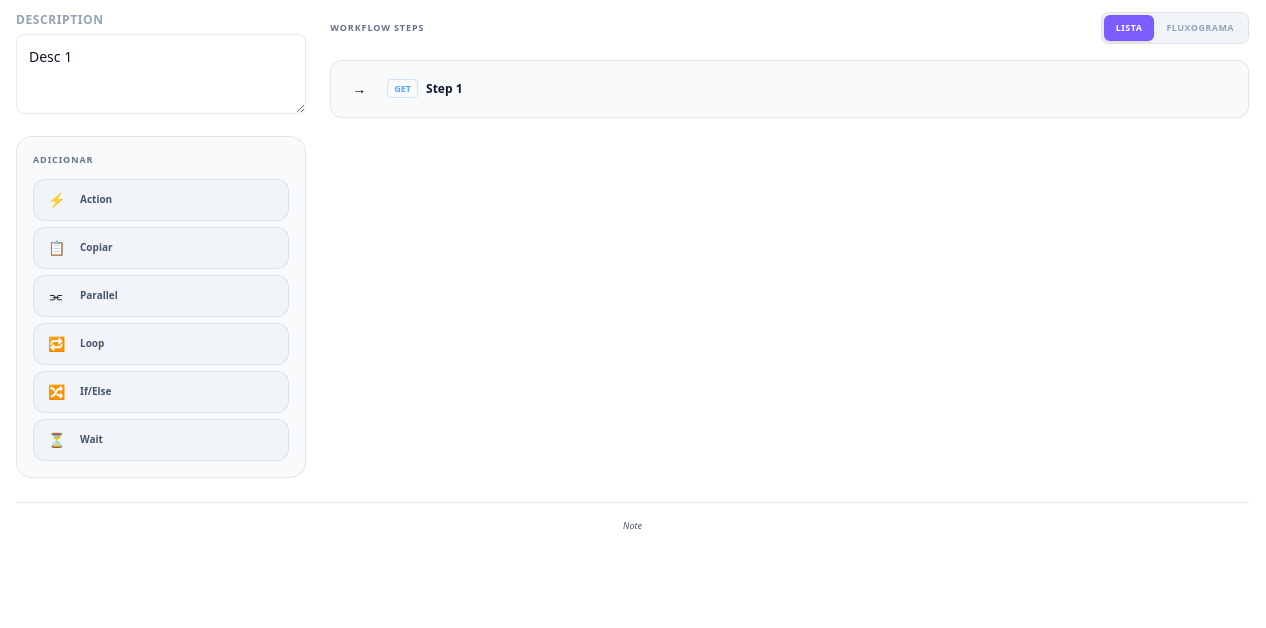
Test: WorkflowEditorView › should toggle between list and flowchart view
Click the button "Fluxograma" at x=1200, y=28, box [1154, 15, 1246, 40]
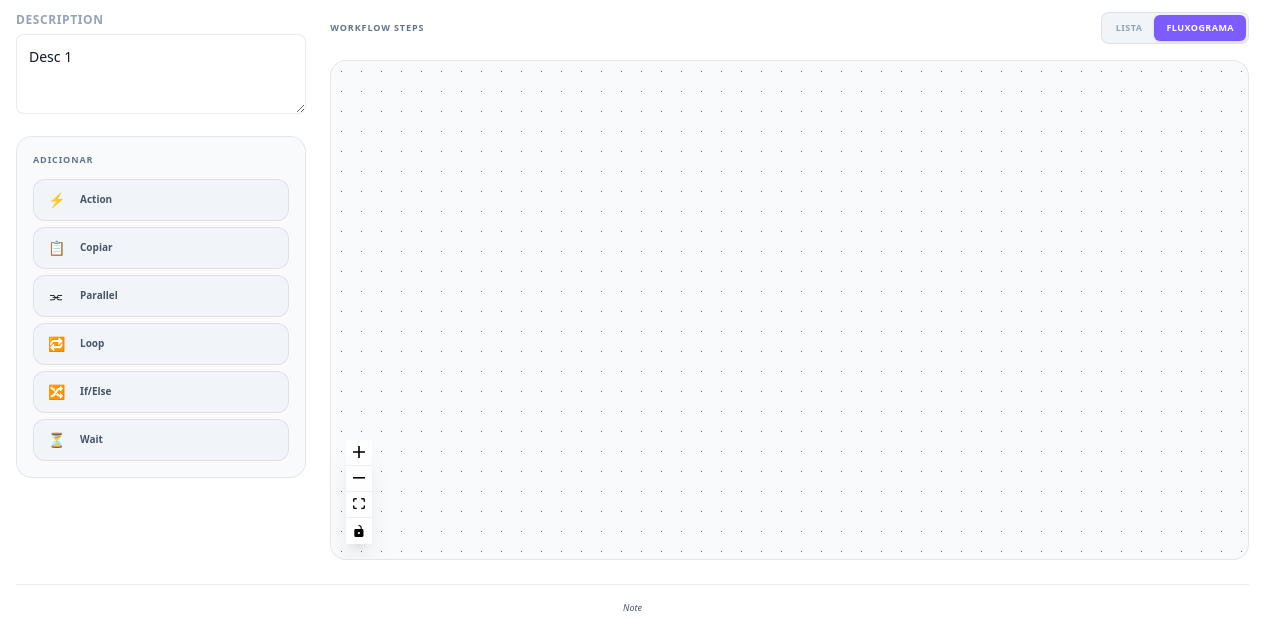
Check: the text "Step 1" is gone
